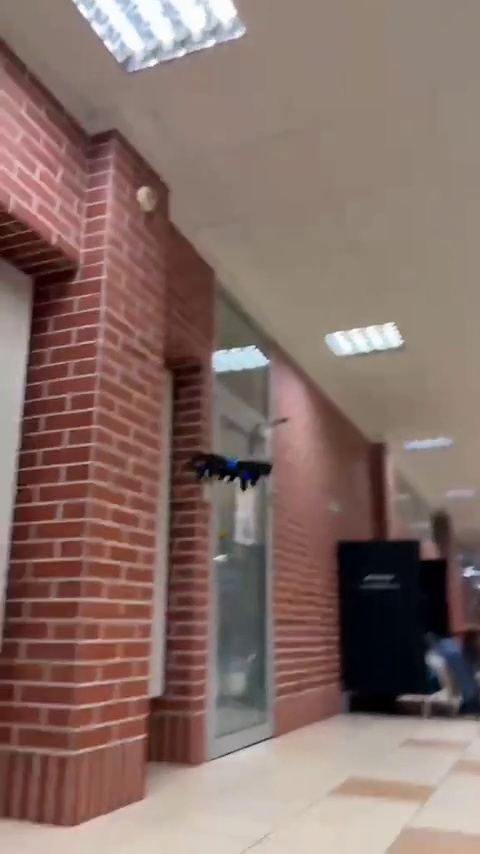drone: (180, 458, 276, 487)
